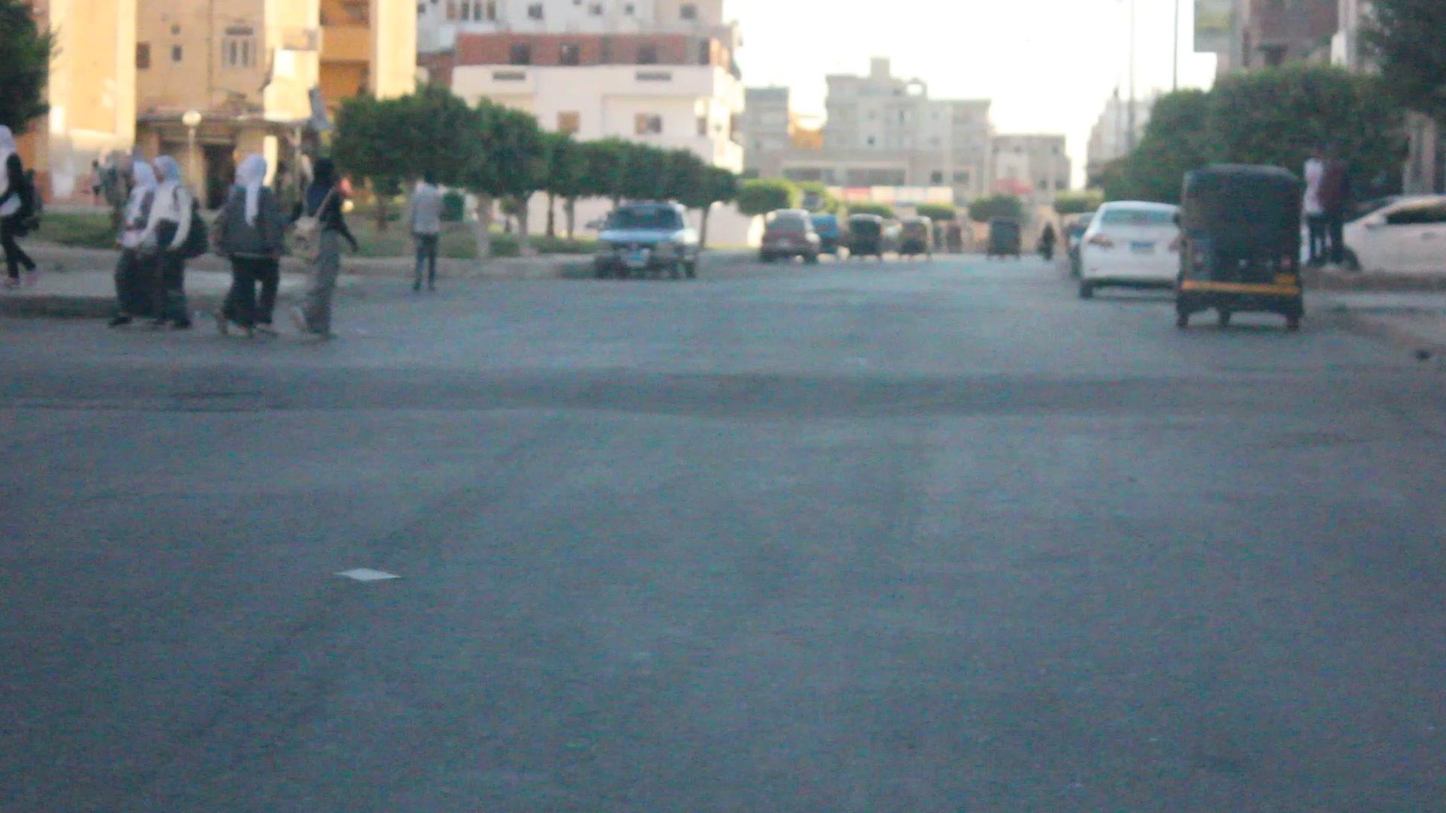Bump: (9, 333, 1440, 452)
